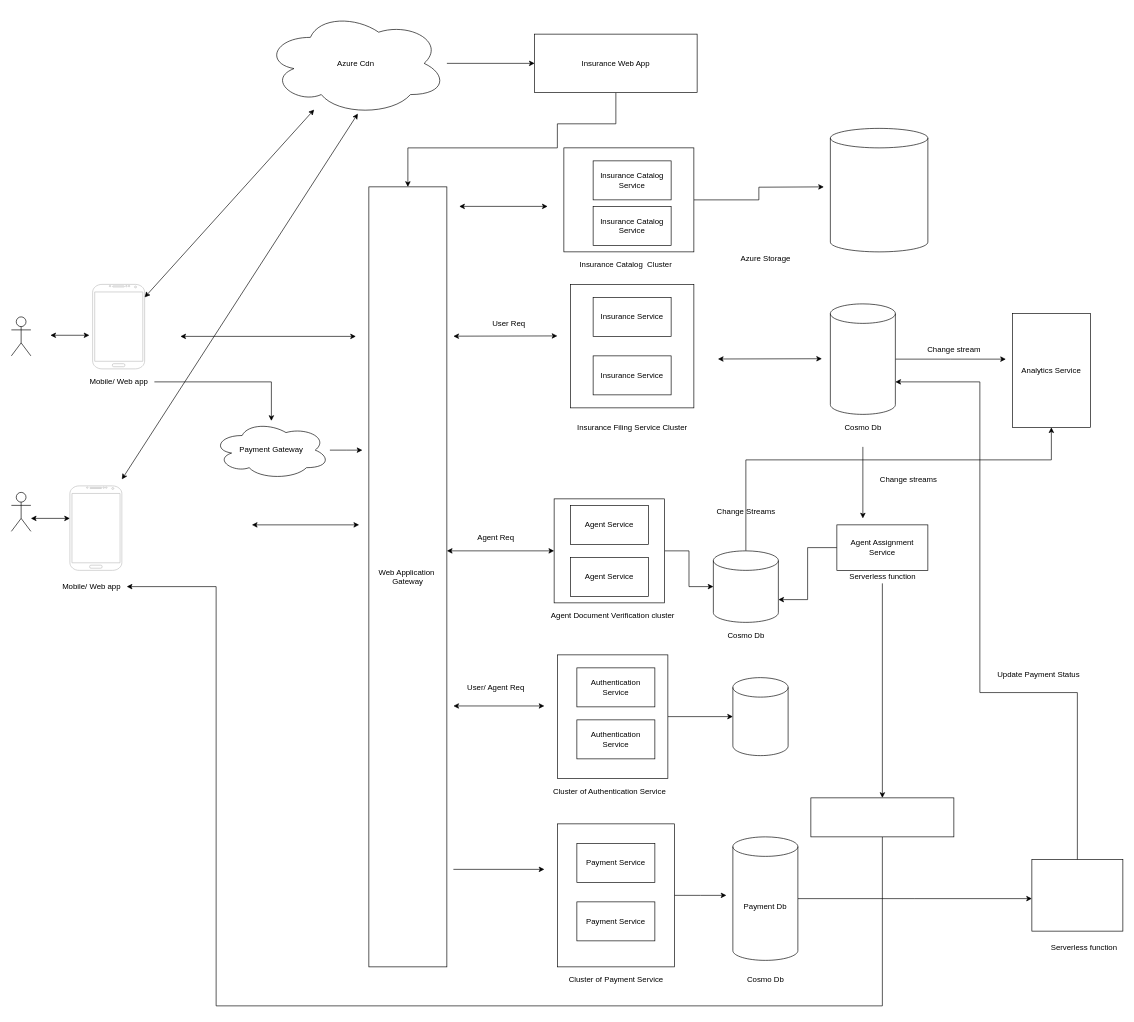
The diagram is 1134 pixels wide and 1022 high, and some of its shapes have lost their labels. The shapes that lost their labels are listed below. From the top down, each one's centre as x and y in pixels, then its label:
point 879,190: Insurance Catalog
point 21,336: user
point 862,358: Insurance Database
point 21,511: Agent
point 745,586: Agent Db
point 760,716: Auth Db
point 882,817: Notification Hub
point 1077,895: Payment Event Capture Service
